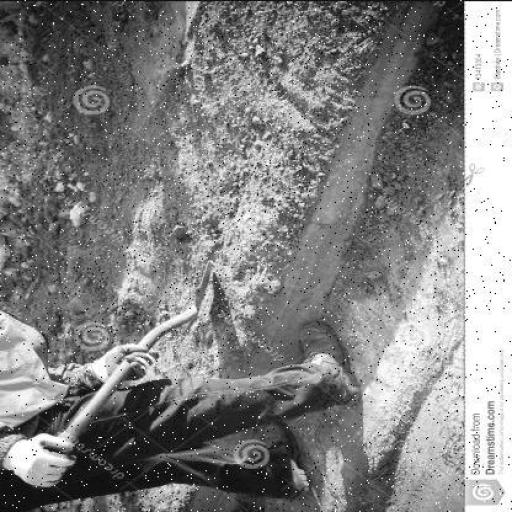safety_shoe: (301, 320, 355, 400), (259, 428, 307, 496)
